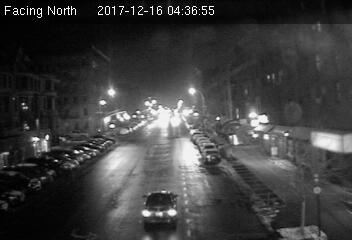car: (144, 189, 178, 228), (201, 148, 220, 163)
